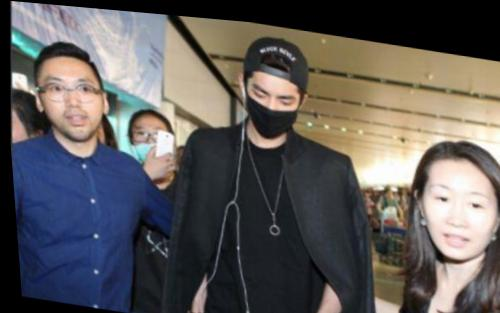NONE: (422, 173, 495, 253), (34, 71, 106, 143)
OK: (241, 74, 306, 139)
WRONG: (127, 119, 177, 171)
